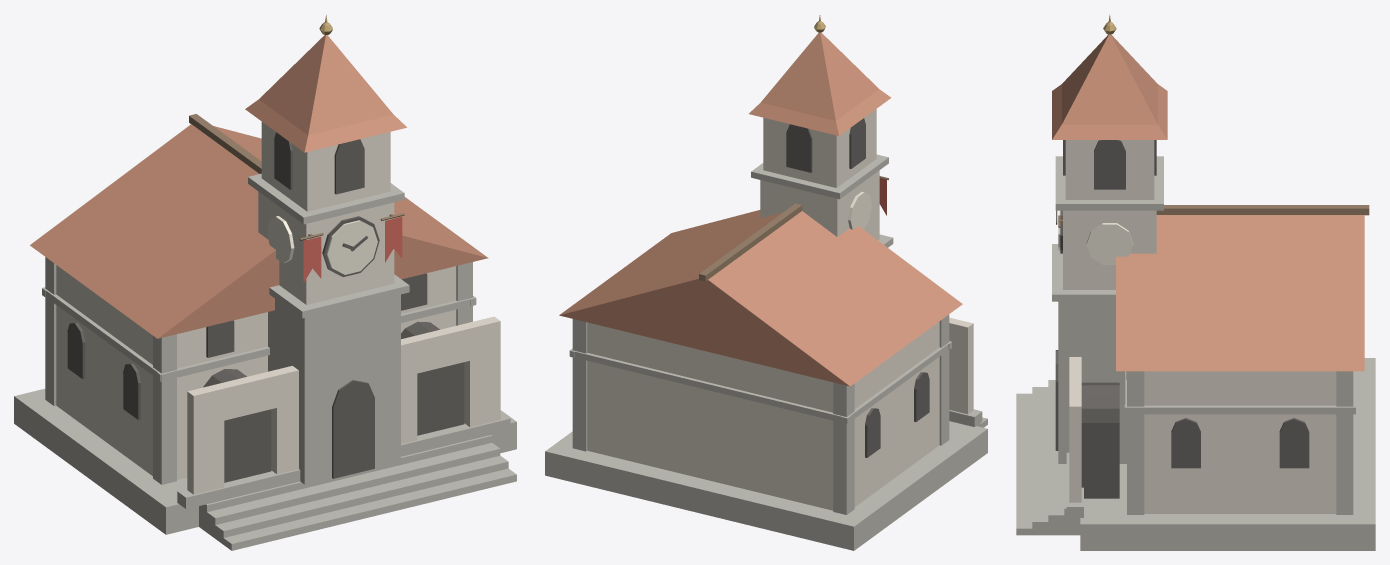
The model's file is era1-townhall-Dpo1Nio0.glb.
The picture shows the model from 3 angles, left to right: view 1: azimuth 30°, elevation 25°; view 2: azimuth 150°, elevation 25°; view 3: azimuth 270°, elevation 25°; orthographic projection. The views are drawn at different scales.
Visible parts, largest first — view 1: TownHall_Roof, TownHall_Hall, TownHall_TowerLow, TownHall_Plinth, TownHall_Spire, TownHall_TowerMid, TownHall_Belfry, TownHall_Step2, TownHall_Step3, TownHall_Step4, TownHall_ArchBandL, TownHall_ArchBandR (+29 smaller); view 2: TownHall_Roof, TownHall_Hall, TownHall_Plinth, TownHall_Spire, TownHall_Belfry, TownHall_TowerMid, TownHall_QuoinBL, TownHall_StringB, TownHall_SpireSkirt, TownHall_QuoinBR, TownHall_CorniceHigh, TownHall_PierOutL (+6 smaller); view 3: TownHall_Roof, TownHall_Hall, TownHall_Plinth, TownHall_Spire, TownHall_TowerLow, TownHall_TowerMid, TownHall_LoggiaR, TownHall_Belfry, TownHall_SpireSkirt, TownHall_Step3, TownHall_QuoinBR, TownHall_QuoinFR (+17 smaller).
Boxes of the visible parts, x1,y1,x2,y2 form: TownHall_Roof: (30,124,488,338); TownHall_Hall: (56,265,456,479); TownHall_TowerLow: (268,294,400,484); TownHall_Plinth: (14,388,516,534); TownHall_Spire: (259,35,393,135); TownHall_TowerMid: (258,191,394,304); TownHall_Belfry: (261,122,390,211); TownHall_Step2: (207,443,500,538); TownHall_Step3: (215,455,508,544); TownHall_Step4: (223,468,516,550); TownHall_ArchBandL: (187,366,298,427); TownHall_ArchBandR: (401,316,500,377); TownHall_Roof: (559,210,962,386); TownHall_Hall: (587,321,939,510); TownHall_Plinth: (545,421,987,550); TownHall_Spire: (761,32,878,120); TownHall_Belfry: (763,109,876,187); TownHall_TowerMid: (760,170,879,240); TownHall_QuoinBL: (833,382,854,514); TownHall_StringB: (569,348,850,424); TownHall_SpireSkirt: (749,89,891,135); TownHall_QuoinBR: (572,319,587,451); TownHall_CorniceHigh: (751,154,888,199); TownHall_PierOutL: (949,351,973,414); TownHall_Roof: (1116,215,1364,371); TownHall_Hall: (1144,371,1336,513); TownHall_Plinth: (1080,358,1375,550); TownHall_Spire: (1062,34,1157,124); TownHall_TowerLow: (1058,301,1126,463); TownHall_TowerMid: (1063,210,1156,289); TownHall_LoggiaR: (1081,382,1119,498); TownHall_Belfry: (1065,140,1154,199); TownHall_SpireSkirt: (1052,84,1167,139); TownHall_Step3: (1032,387,1048,535); TownHall_QuoinBR: (1336,371,1353,514); TownHall_QuoinFR: (1127,371,1144,514).
Bounding box in the file's own units: 16 × 20.35 × 14.6.
